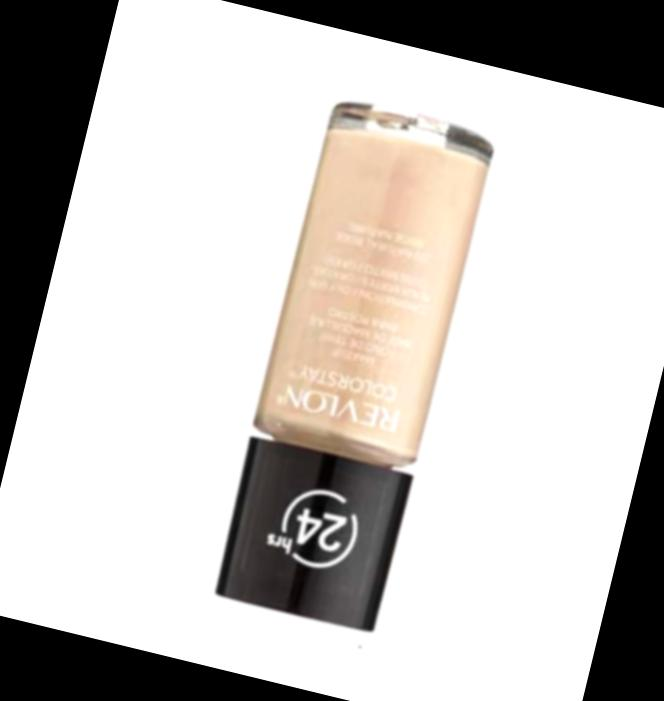cosmetic: (213, 99, 498, 633)
